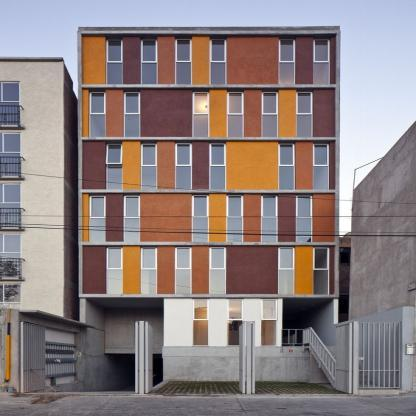Building Outline: (4, 27, 414, 394)
Dont: (134, 320, 153, 394), (238, 321, 256, 394)
Door Hole: (283, 299, 334, 347)
Facade: (78, 27, 339, 84)
Floor: (78, 88, 339, 137), (78, 193, 339, 242), (78, 141, 339, 189), (78, 246, 339, 294)
Floor Slab: (78, 137, 339, 141), (78, 189, 339, 193), (78, 242, 339, 246), (78, 295, 339, 299), (78, 84, 339, 88)
Ground Floor: (78, 298, 339, 394)
Top Floor: (78, 26, 339, 394)
Window: (106, 247, 123, 295), (141, 247, 158, 295), (175, 247, 192, 295), (209, 247, 226, 295), (296, 195, 313, 242), (89, 195, 106, 242), (123, 195, 140, 242), (192, 195, 209, 242), (227, 195, 244, 242), (261, 195, 278, 242), (296, 91, 313, 137), (262, 91, 279, 137), (123, 91, 140, 137), (89, 91, 106, 137), (227, 91, 244, 137), (193, 91, 210, 137), (210, 143, 227, 189), (175, 143, 192, 189), (278, 247, 294, 295), (314, 247, 330, 295), (261, 298, 277, 346), (193, 298, 209, 346), (228, 298, 244, 346), (314, 39, 331, 84), (279, 39, 296, 84), (210, 39, 227, 84), (175, 39, 192, 84), (141, 39, 158, 84), (106, 39, 123, 84), (140, 144, 157, 189), (106, 144, 123, 189), (313, 144, 330, 189), (278, 144, 295, 189)
